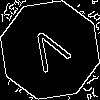V: (25, 25, 78, 82)
